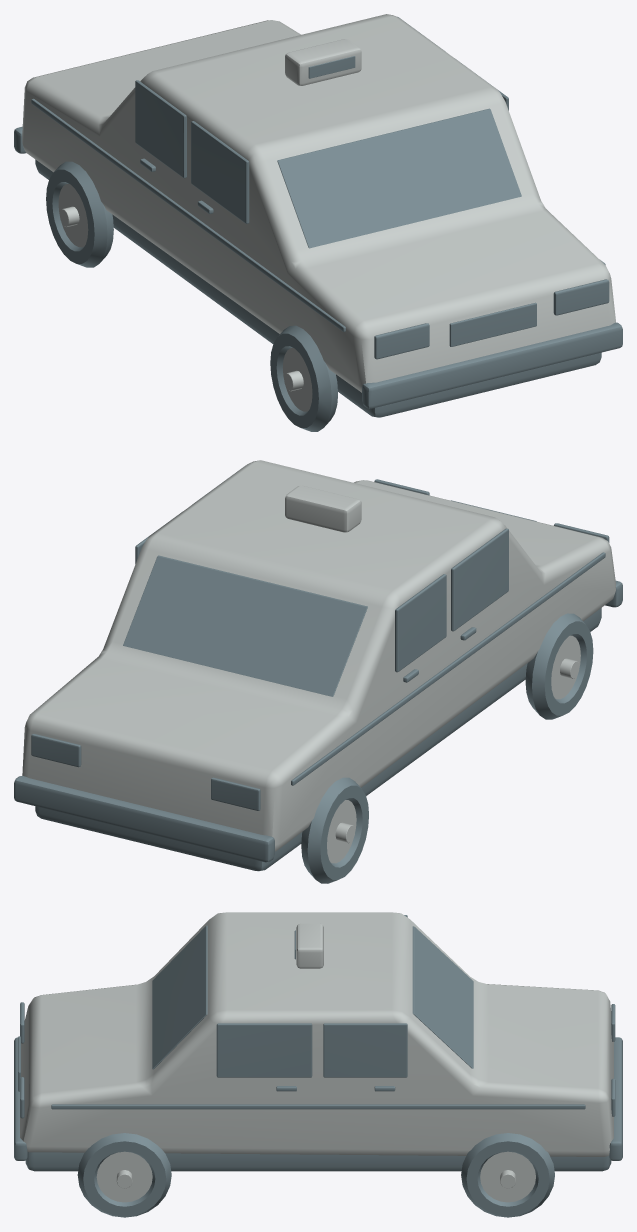
File: taxi.glb
3 views of the same model, one above another, from view 1: azimuth 30°, elevation 25°; view 2: azimuth 150°, elevation 25°; view 3: azimuth 270°, elevation 25° (orthographic). The views are drawn at different scales.
Parts seen in each view (by area): view 1: sedan_body, windshield, bumper, floorpan, taxi_wheel_tire.001, taxi_wheel_tire, front_side_window, rear_side_window, belt_trim, front_grille, taxi_roof_sign, headlight.001 (+4 smaller); view 2: sedan_body, rear_glass, bumper.001, floorpan, taxi_wheel_tire.001, taxi_wheel_tire, front_side_window, rear_side_window, taxi_roof_sign, belt_trim, rear_light.001, rear_light (+2 smaller); view 3: sedan_body, floorpan, rear_glass, front_side_window.001, windshield, rear_side_window.001, taxi_wheel_tire.003, taxi_wheel_tire.002, belt_trim.001, taxi_wheel_wheel_face.003, taxi_wheel_wheel_face.002, taxi_roof_sign (+2 smaller).
Boxes of the visible parts, box(x1,y1,x2,y2) form: sedan_body: box(22, 14, 615, 392); windshield: box(277, 108, 521, 248); bumper: box(362, 322, 622, 408); floorpan: box(35, 159, 601, 417); taxi_wheel_tire.001: box(270, 325, 337, 431); taxi_wheel_tire: box(46, 161, 113, 267); front_side_window: box(191, 121, 249, 223); rear_side_window: box(135, 80, 186, 178); belt_trim: box(31, 98, 345, 331); front_grille: box(449, 302, 536, 346); taxi_roof_sign: box(285, 39, 361, 85); headlight.001: box(553, 279, 609, 315); sedan_body: box(22, 460, 615, 851); rear_glass: box(123, 555, 367, 696); bumper.001: box(14, 776, 274, 862); floorpan: box(35, 608, 601, 871); taxi_wheel_tire.001: box(525, 613, 593, 719); taxi_wheel_tire: box(301, 777, 368, 883); front_side_window: box(451, 528, 508, 631); rear_side_window: box(395, 574, 446, 672); taxi_roof_sign: box(285, 485, 361, 532); belt_trim: box(291, 552, 605, 785); rear_light.001: box(31, 734, 81, 767); rear_light: box(211, 777, 260, 810); sedan_body: box(20, 912, 613, 1156); floorpan: box(25, 1152, 611, 1171); rear_glass: box(412, 926, 473, 1068); front_side_window.001: box(216, 1023, 312, 1077); windshield: box(152, 925, 207, 1069); rear_side_window.001: box(323, 1023, 407, 1077); taxi_wheel_tire.003: box(77, 1133, 171, 1217); taxi_wheel_tire.002: box(461, 1133, 554, 1217); belt_trim.001: box(51, 1104, 585, 1109); taxi_wheel_wheel_face.003: box(96, 1151, 152, 1202); taxi_wheel_wheel_face.002: box(480, 1151, 535, 1202); taxi_roof_sign: box(296, 923, 323, 968).
Size of the model in its own units: 2.04 by 1.83 by 4.4.
